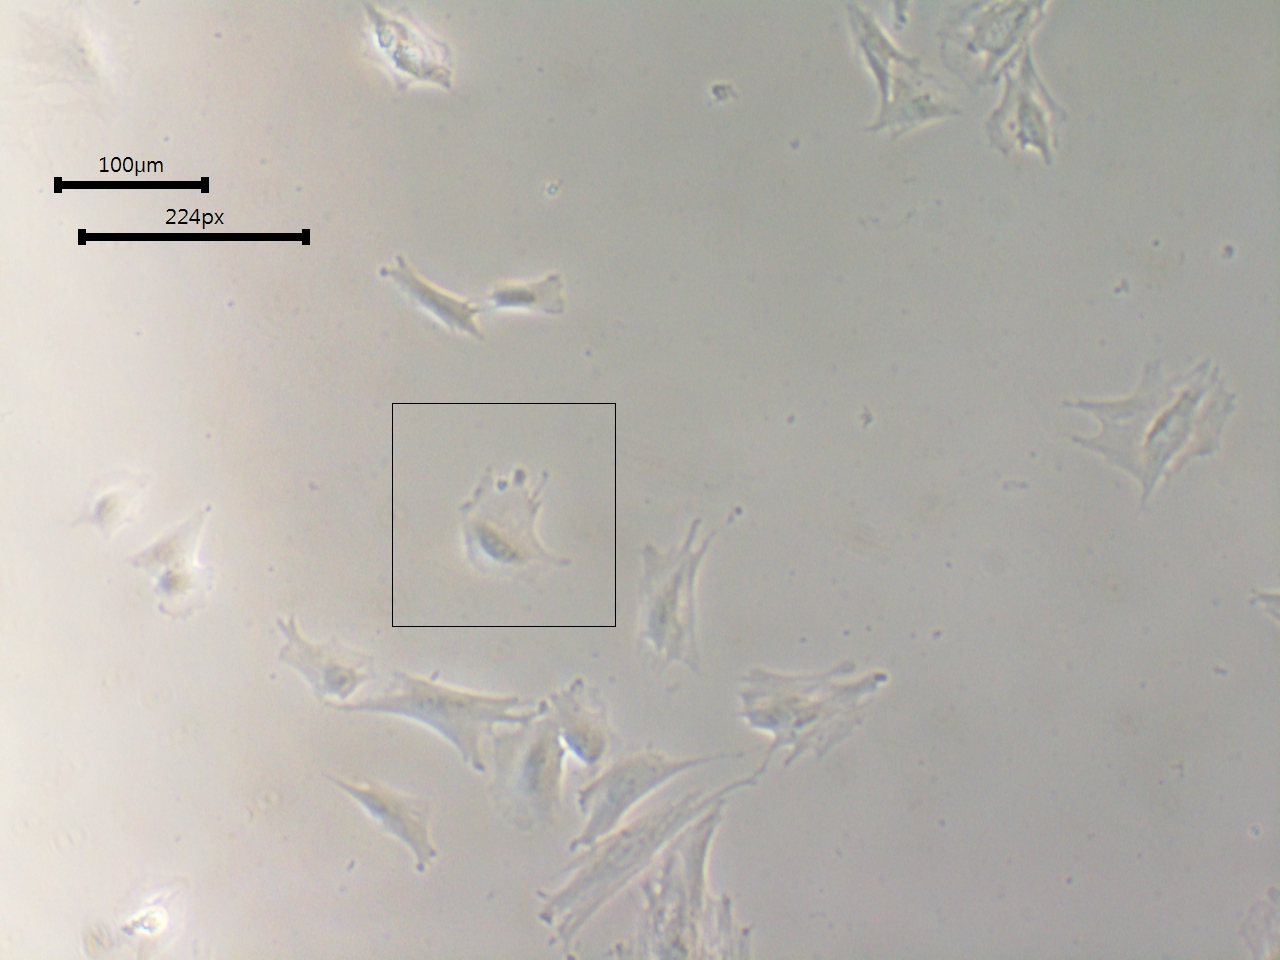medium-spread: (1055, 351, 1263, 519), (730, 655, 922, 781), (620, 502, 724, 694), (450, 453, 577, 588)
small-polygonal: (319, 768, 443, 884)
small-spread: (492, 270, 574, 319)
spindle: (376, 247, 476, 347)
